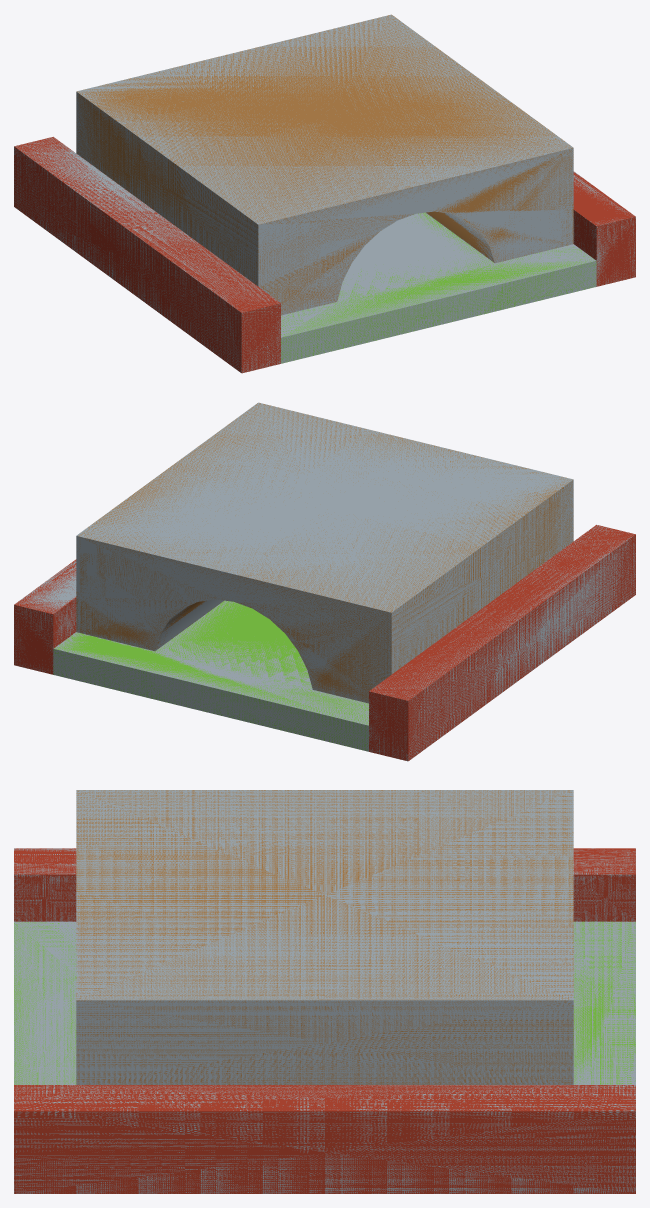
The model's file is Tunnel_wide_01.obj.
The picture shows the model from 3 angles, top to bottom: view 1: azimuth 30°, elevation 25°; view 2: azimuth 150°, elevation 25°; view 3: azimuth 270°, elevation 25°; orthographic projection. The views are drawn at different scales.
Visible parts, largest first — view 1: Mesh1 Tunnel_wide Model; view 2: Mesh1 Tunnel_wide Model; view 3: Mesh1 Tunnel_wide Model.
Boxes of the visible parts, x1=… form: Mesh1 Tunnel_wide Model: x1=14, y1=14, x2=635, y2=373; Mesh1 Tunnel_wide Model: x1=14, y1=402, x2=635, y2=761; Mesh1 Tunnel_wide Model: x1=14, y1=790, x2=635, y2=1193.
Size of the model in its own units: 3 by 0.89 by 3.
